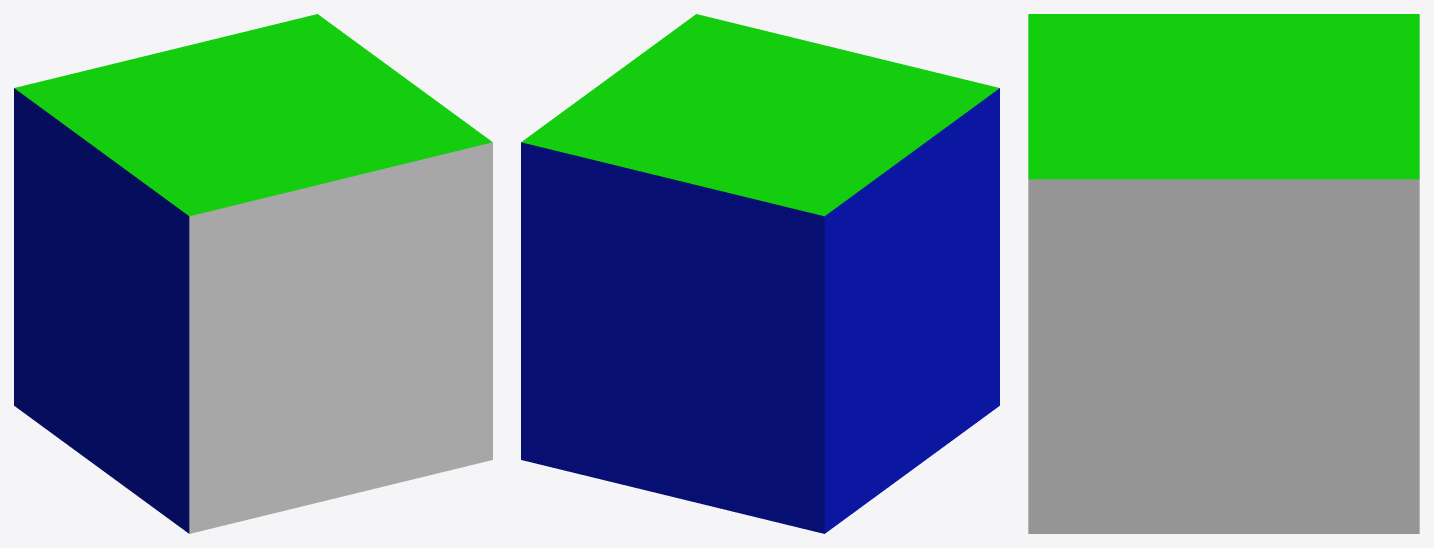
The model's file is explode.glb.
3 renders of one model, left to right at view 1: azimuth 30°, elevation 25°; view 2: azimuth 150°, elevation 25°; view 3: azimuth 270°, elevation 25°, orthographic. The views are drawn at different scales.
Visible parts, largest first — view 1: Cube; view 2: Cube; view 3: Cube.
Boxes of the visible parts, x1,y1,x2,y2 form: Cube: [14, 14, 492, 533]; Cube: [521, 14, 999, 533]; Cube: [1028, 14, 1419, 533].
Bounding box in the file's own units: 2 × 2 × 2.
